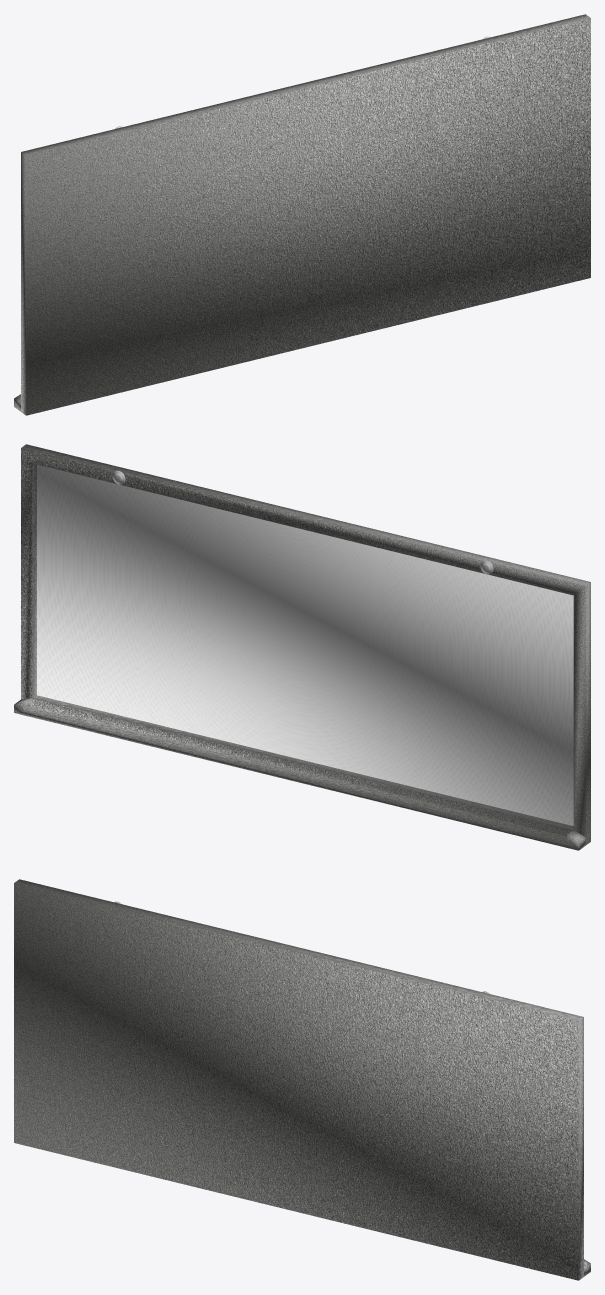
Rendered from pizarra.fbx.
3 renders of one model, top to bottom at view 1: azimuth 30°, elevation 25°; view 2: azimuth 150°, elevation 25°; view 3: azimuth 330°, elevation 25°, orthographic.
Visible parts, largest first — view 1: Cube; view 2: Cube; view 3: Cube.
Boxes of the visible parts, x1=… form: Cube: x1=14, y1=14, x2=590, y2=415; Cube: x1=14, y1=444, x2=590, y2=850; Cube: x1=14, y1=879, x2=590, y2=1280.
Bounding box in the file's own units: 1842 × 814 × 68.99.
